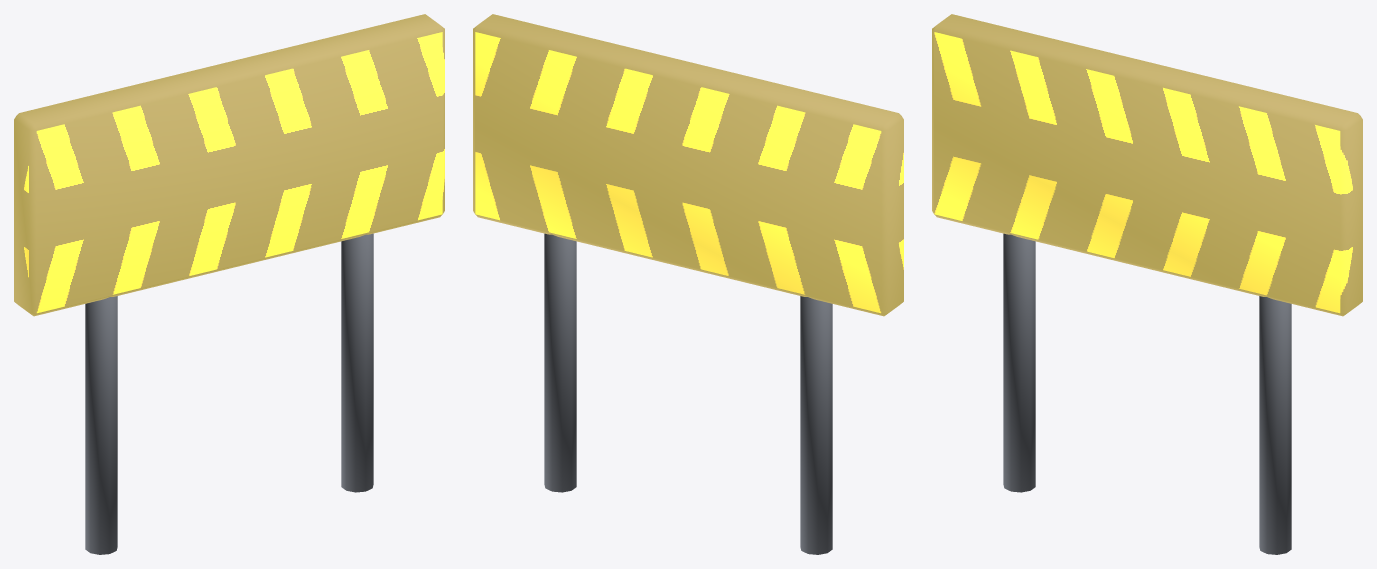
File: prop_turn_sign.glb
3 renders of one model, left to right at view 1: azimuth 30°, elevation 25°; view 2: azimuth 150°, elevation 25°; view 3: azimuth 330°, elevation 25°, orthographic.
Parts seen in each view (by area): view 1: Post_-1.6; view 2: Post_-1.6; view 3: Post_-1.6.
Boxes of the visible parts, x1,y1,x2,y2 form: Post_-1.6: (14,14,444,554); Post_-1.6: (473,14,903,554); Post_-1.6: (932,14,1362,554).
Size of the model in its own units: 5.2 by 5.35 by 0.44.
Materials: 2 (1 with a texture image).
